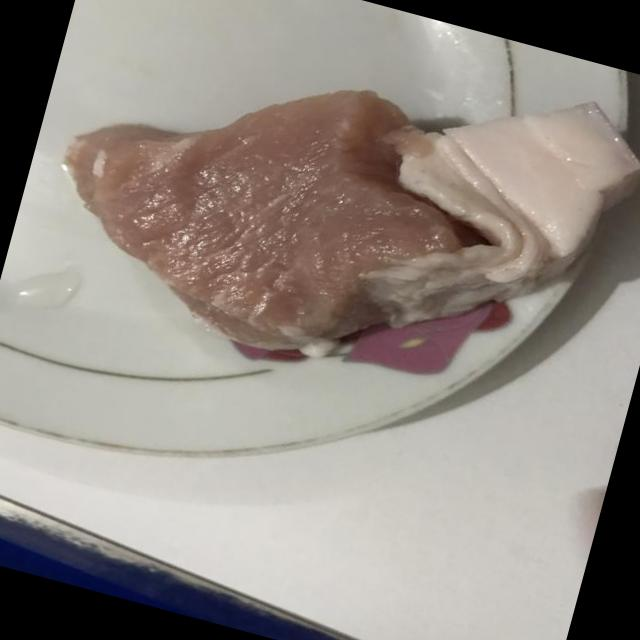chicken: (17, 0, 640, 441)
